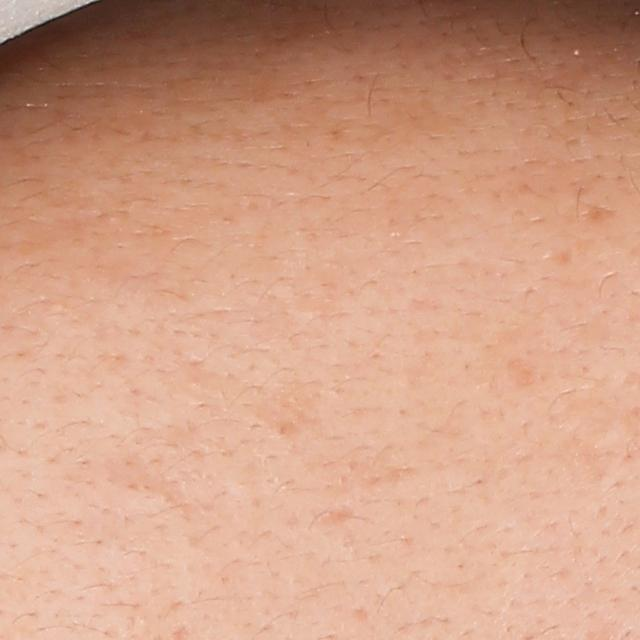atrophic_scar: (107, 453, 187, 507), (578, 199, 624, 225), (315, 505, 358, 530)
